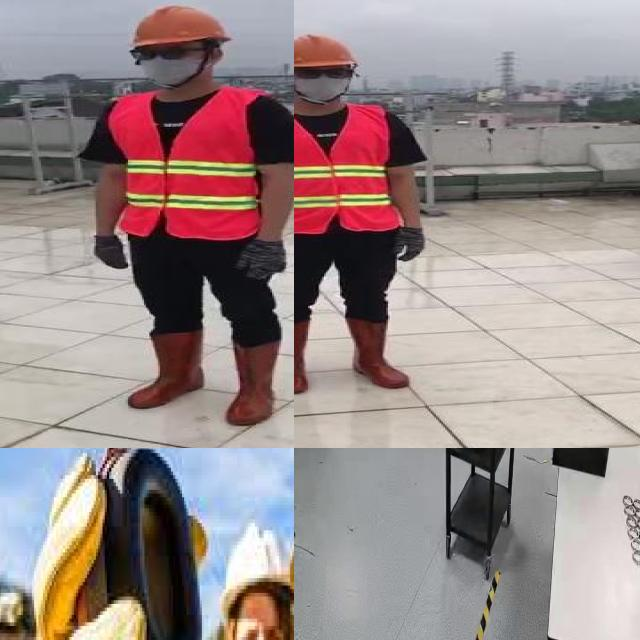Ear-protection: (80, 448, 203, 640)
boots: (125, 332, 203, 408), (345, 318, 415, 389), (226, 339, 281, 429), (294, 320, 315, 396)
face_mask: (128, 42, 204, 88), (294, 63, 356, 100)
glasses: (123, 44, 193, 64), (294, 62, 354, 82)
hand_glove: (31, 469, 182, 640), (236, 240, 292, 285), (94, 235, 132, 269), (392, 225, 427, 260)
head_helmet: (212, 508, 294, 596), (129, 4, 235, 48), (294, 32, 358, 70)
person: (79, 4, 294, 434), (294, 30, 445, 397), (40, 448, 294, 640)
vest: (112, 89, 261, 241), (294, 105, 398, 232)
